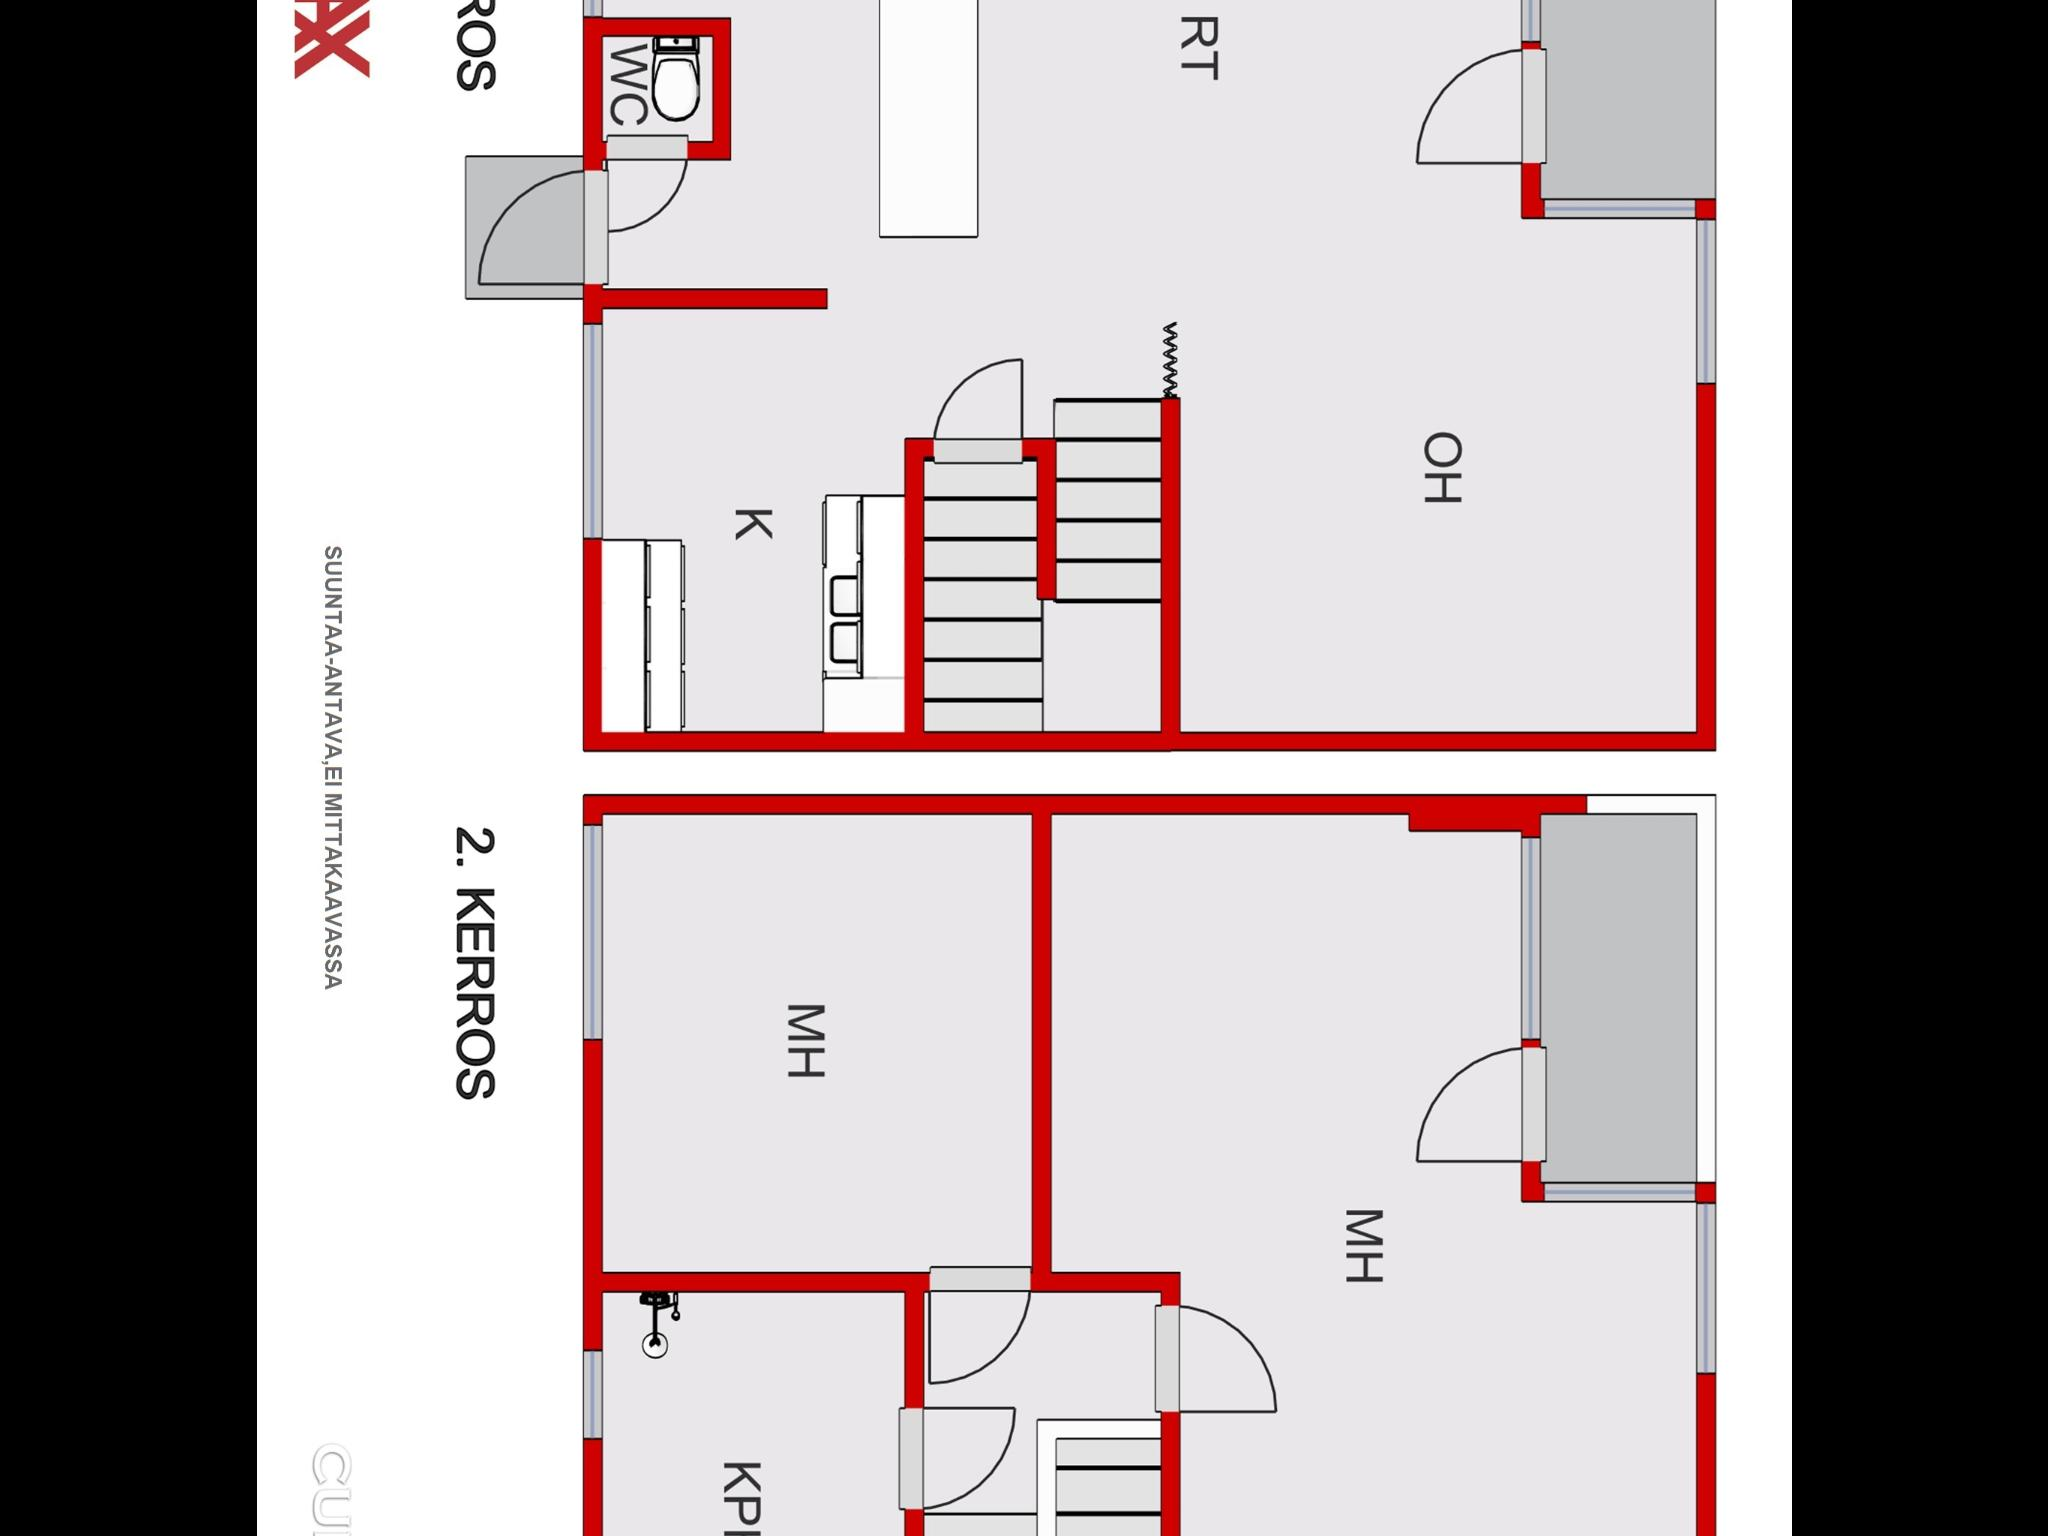bathroom: (593, 1291, 906, 1536), (603, 23, 721, 161)
door: (1393, 39, 1555, 173), (1403, 1034, 1550, 1178), (471, 161, 619, 294), (1155, 1296, 1290, 1421), (910, 1260, 1039, 1391), (893, 1399, 1021, 1515), (922, 345, 1034, 473), (598, 126, 693, 242)
perimeter: (574, 0, 1716, 757), (572, 789, 1719, 1536)
stairs: (922, 444, 1042, 734), (1050, 387, 1164, 610), (1050, 1428, 1163, 1536), (922, 1505, 1042, 1536)
window: (564, 302, 608, 552), (569, 807, 610, 1057), (1508, 824, 1548, 1049), (1688, 1184, 1724, 1388), (1690, 207, 1725, 407), (1529, 195, 1703, 227), (1522, 1176, 1713, 1205), (572, 1328, 610, 1455), (1506, 0, 1550, 52), (569, 0, 610, 34)
